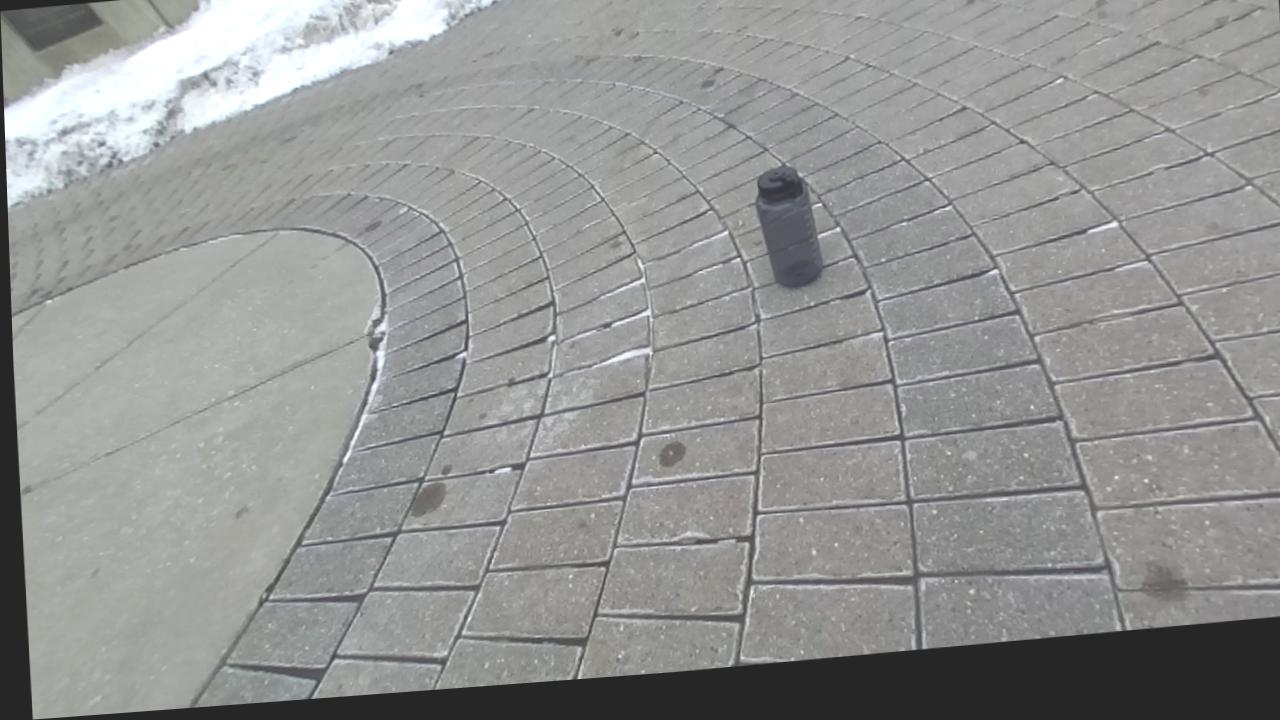bottle: (755, 165, 822, 287)
